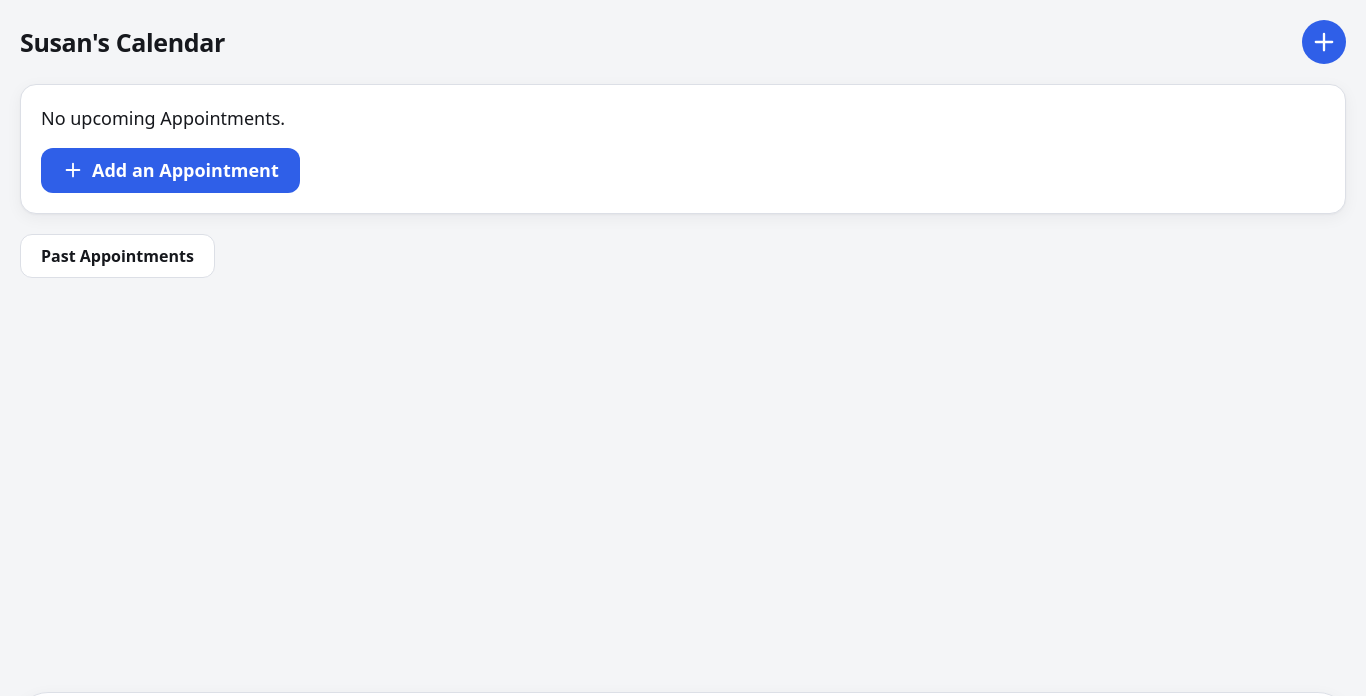
it: on a phone › has no sidebar or detail panel, and offers New Appointment on Upcoming itself
This screenshot has width=1366, height=696.
Step 1. Click the link named "New Appointment" → x=1324, y=42, box [1302,20,1346,64]
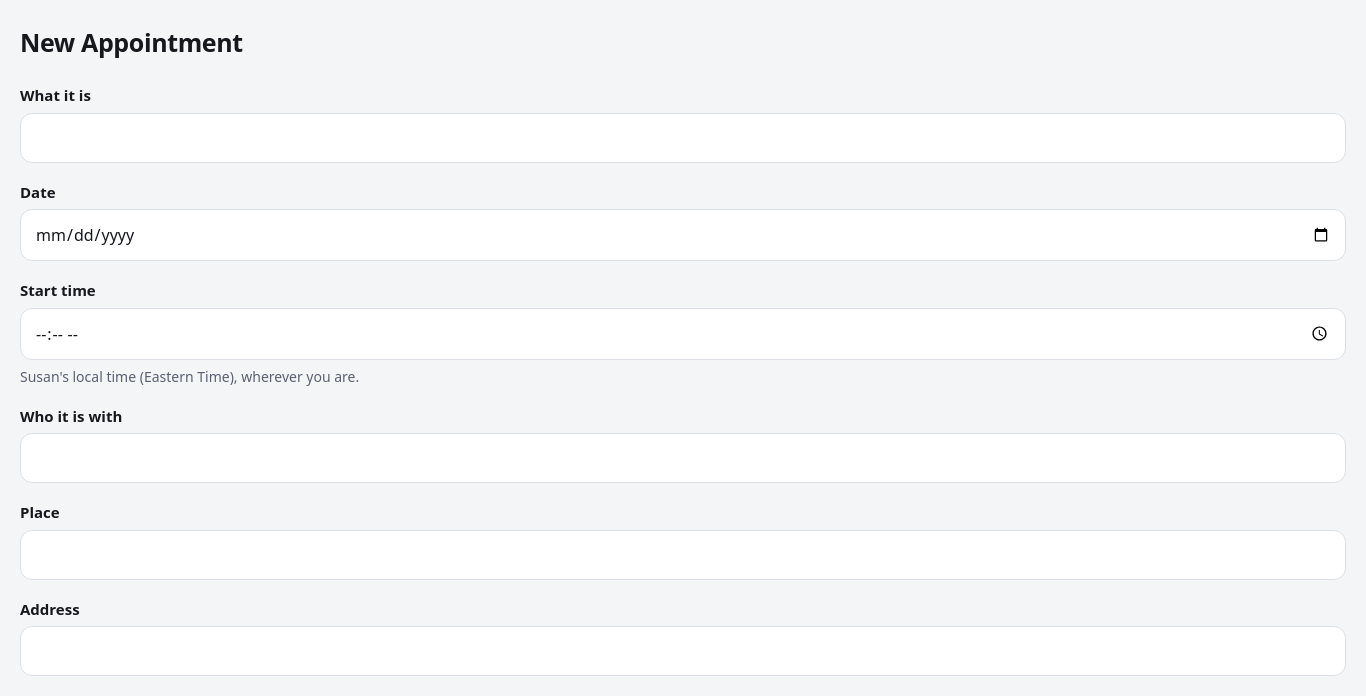
Now the heading "New Appointment" is shown, box [20,27,243,57]
